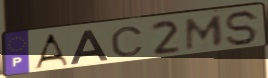2: (149, 20, 183, 57)
A: (69, 28, 111, 66), (32, 32, 71, 70)
C: (109, 25, 146, 58)
M: (184, 14, 225, 52)
S: (223, 10, 261, 48)
